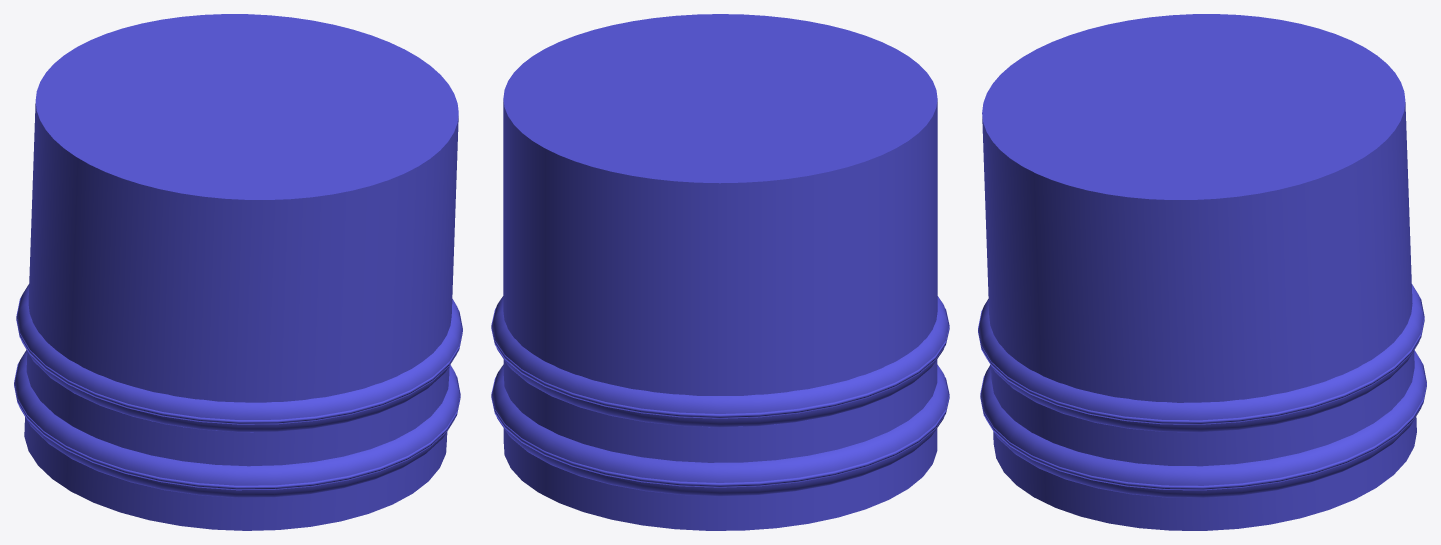
File: bombilla191.obj
3 renders of one model, left to right at view 1: azimuth 30°, elevation 25°; view 2: azimuth 150°, elevation 25°; view 3: azimuth 270°, elevation 25°, orthographic. The views are drawn at different scales.
Visible parts, largest first — view 1: Cylinder001, Cylinder004, Cylinder003, Cylinder002, Cylinder006; view 2: Cylinder001, Cylinder004, Cylinder003, Cylinder006, Cylinder002; view 3: Cylinder001, Cylinder004, Cylinder003, Cylinder002, Cylinder006.
Part boxes in pixels (bbox=[...]): Cylinder001: bbox=[28, 14, 458, 402]; Cylinder004: bbox=[14, 350, 460, 497]; Cylinder003: bbox=[26, 351, 449, 466]; Cylinder002: bbox=[16, 284, 462, 432]; Cylinder006: bbox=[24, 417, 447, 530]; Cylinder001: bbox=[503, 14, 937, 395]; Cylinder004: bbox=[491, 364, 949, 496]; Cylinder003: bbox=[503, 359, 937, 462]; Cylinder006: bbox=[503, 428, 937, 530]; Cylinder002: bbox=[491, 296, 949, 427]; Cylinder001: bbox=[982, 14, 1412, 402]; Cylinder004: bbox=[980, 350, 1426, 497]; Cylinder003: bbox=[991, 351, 1414, 466]; Cylinder002: bbox=[978, 284, 1424, 432]; Cylinder006: bbox=[993, 417, 1416, 530].
Size of the model in its own units: 72.45 by 61.99 by 72.57.
